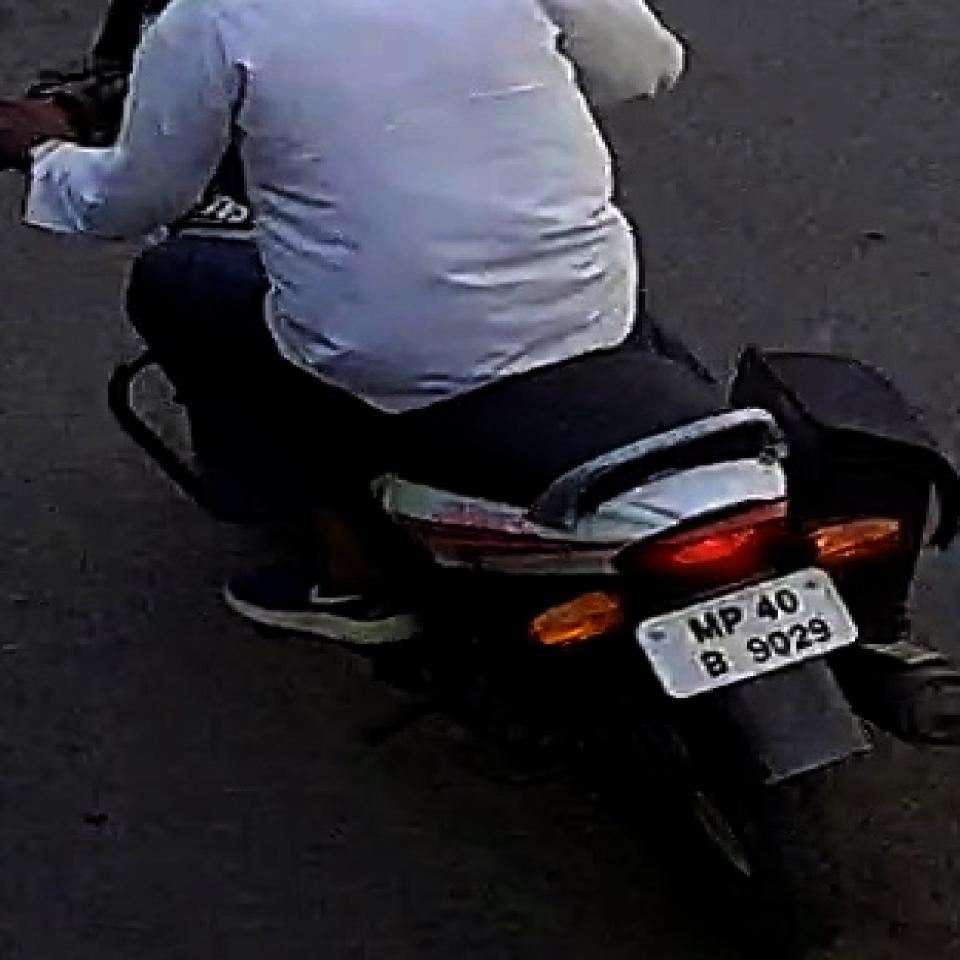tail_light: (617, 508, 793, 590)
